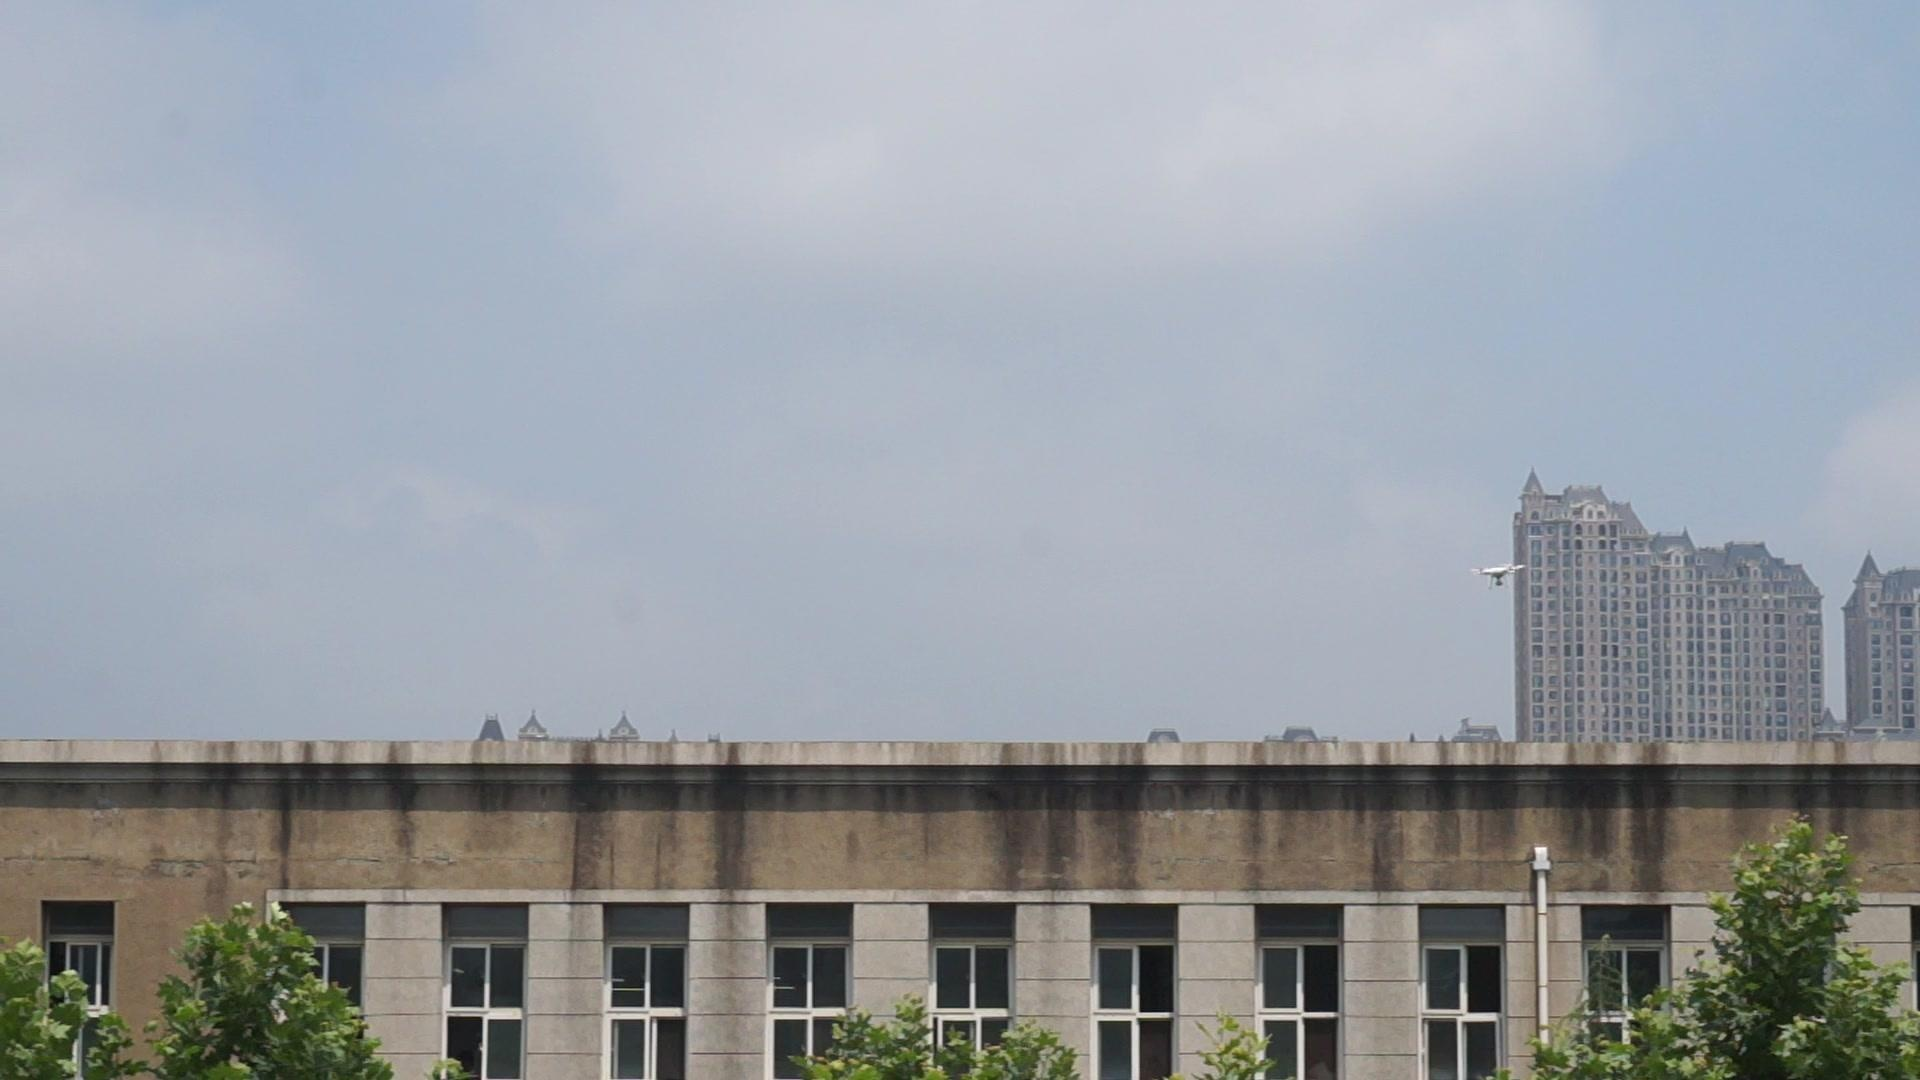UAV: (1473, 564, 1528, 589)
